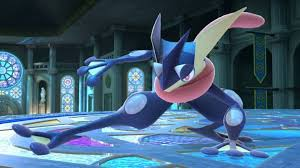greninja: (11, 6, 273, 162)
